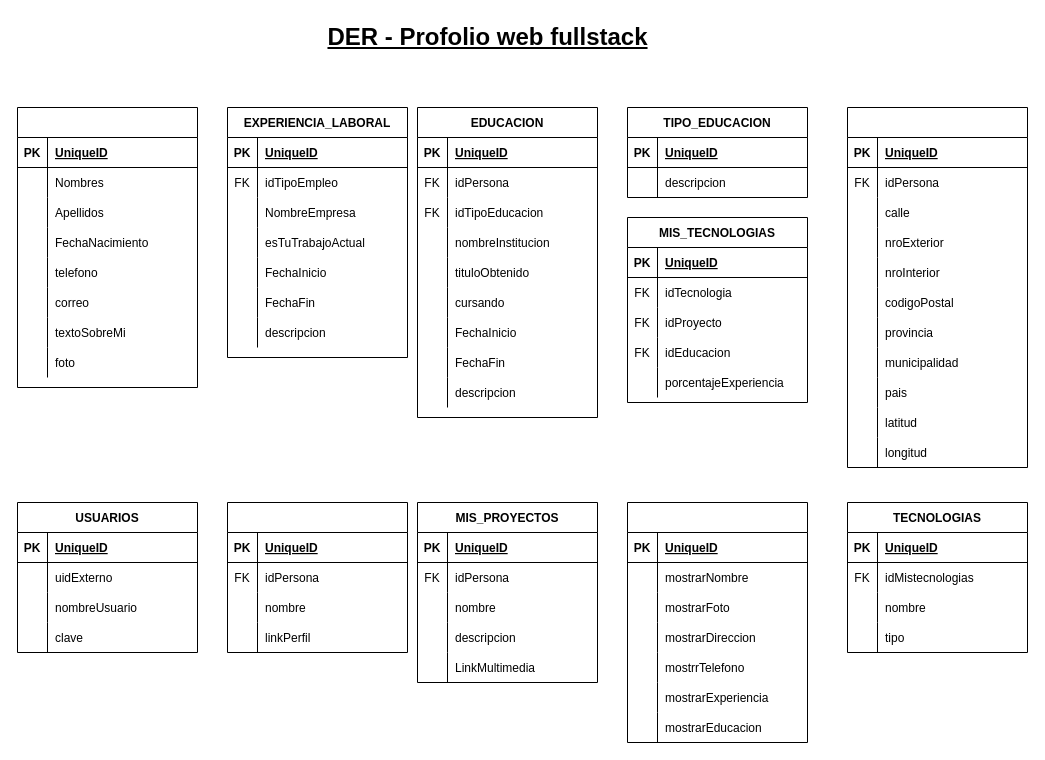
The diagram is 1045 pixels wide and 760 high, and some of its shapes have lost their labels. The box of each missing label's shape, as (x1, y1, x2, y2) in pixels:
CONFIGURACION: (626, 502, 808, 742)
DOMICILIO: (846, 106, 1028, 468)
MIS_REDES: (226, 502, 408, 652)
PERSONA: (16, 106, 198, 388)
